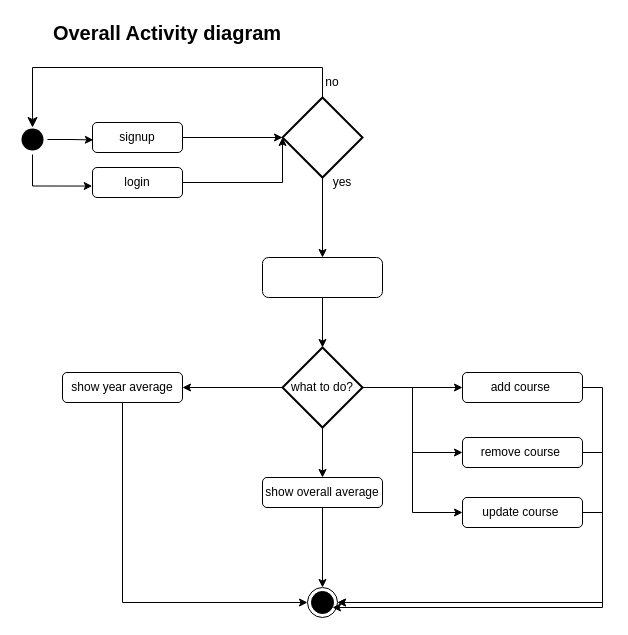
Some shapes in this 628 by 635 pixel diagram are drawn without their labels. Here are the shapes that lost their labels. From the top down, the centre of each, then its label:
the point at 322,137: validate user
the point at 322,277: load user main page
